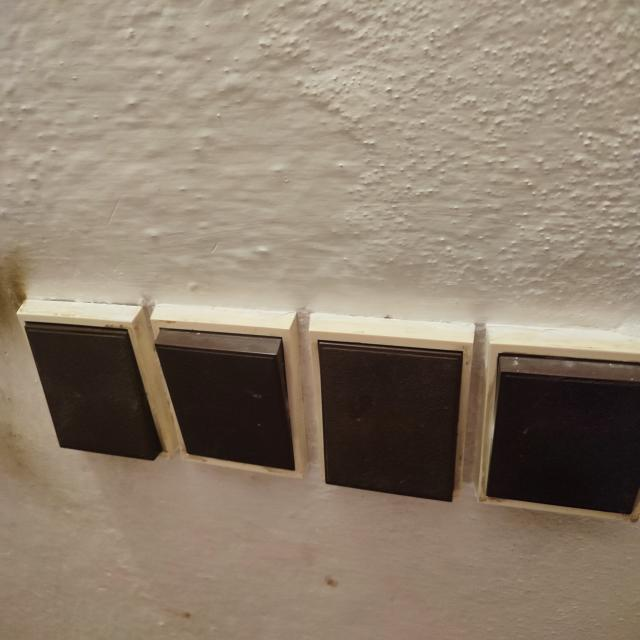house switch: (472, 324, 640, 523), (308, 314, 475, 502), (150, 303, 309, 479), (16, 299, 179, 461)
